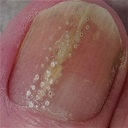Nail Fungal Infection: (15, 7, 98, 115)
